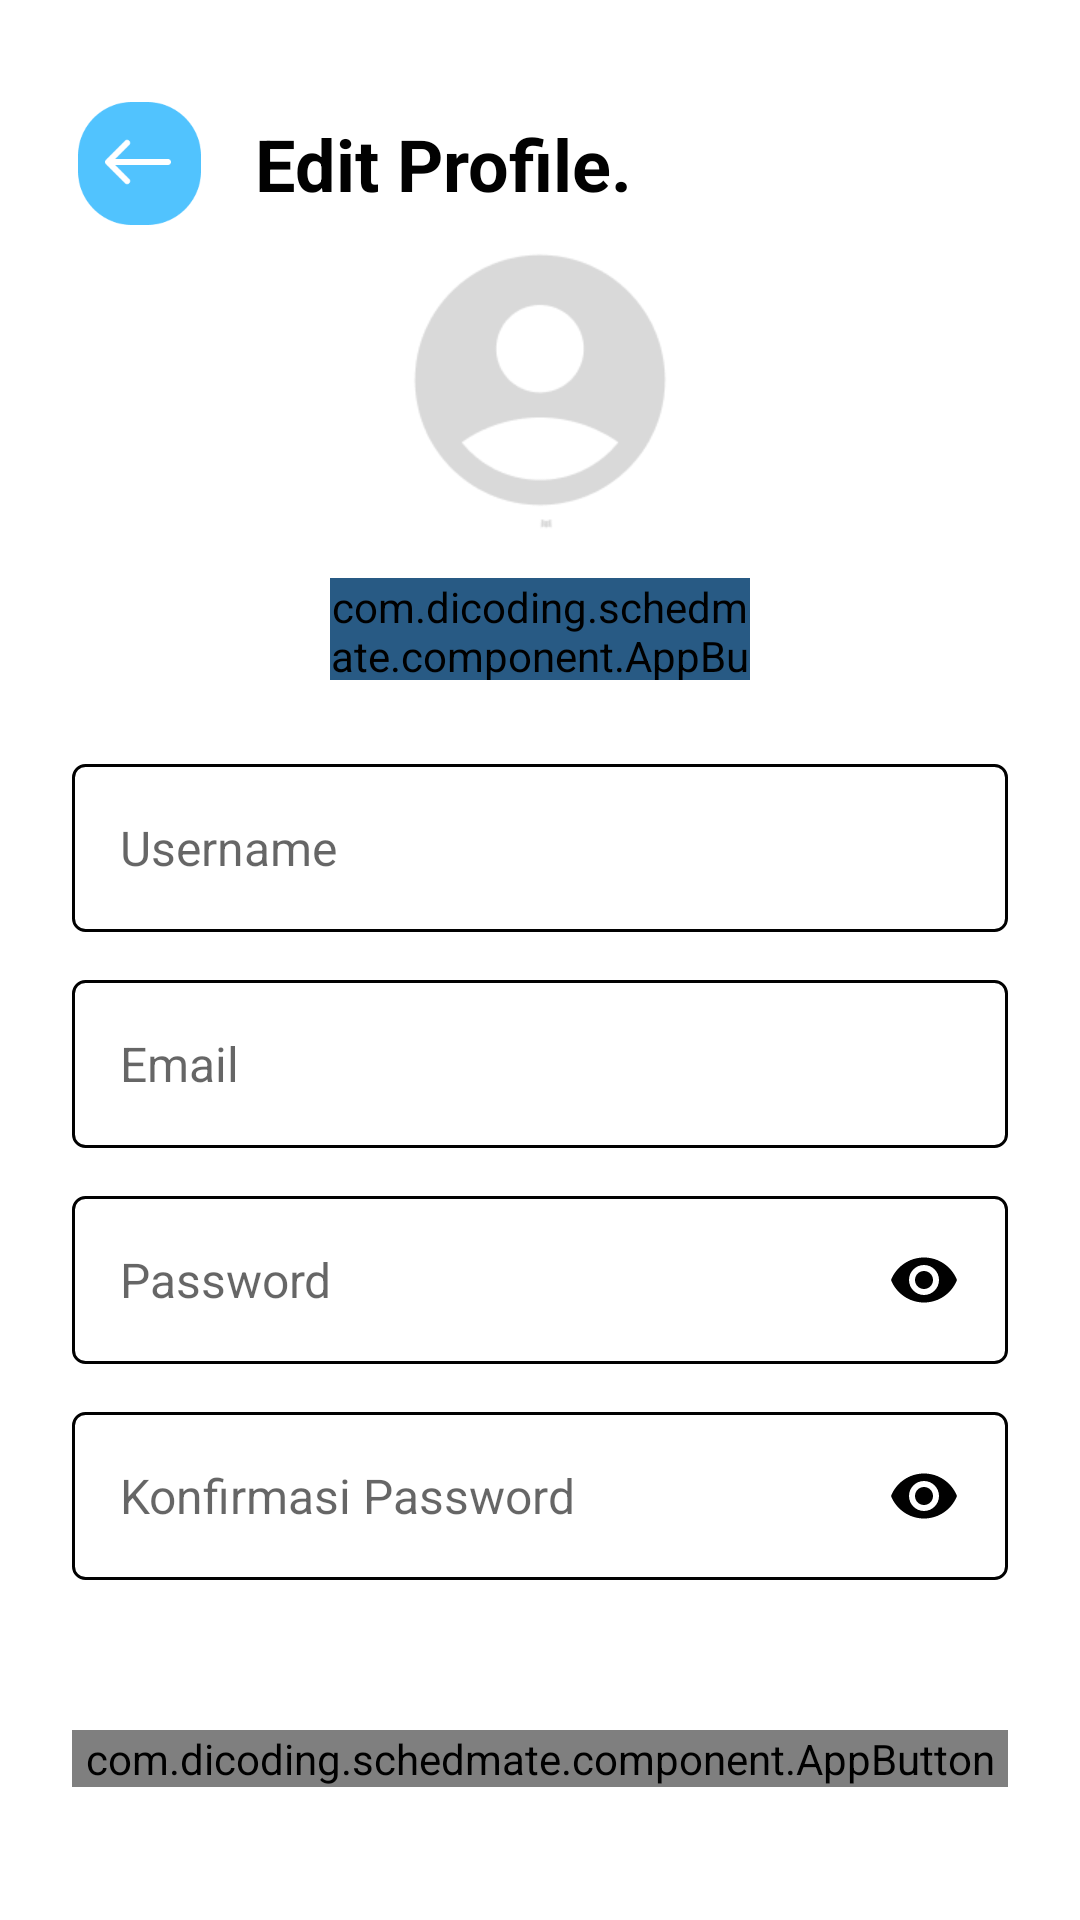

Point at icon controls on the screen. Image size 1080 x 1920, points as [x,y].
back: [139,163]
user: [540,391]
